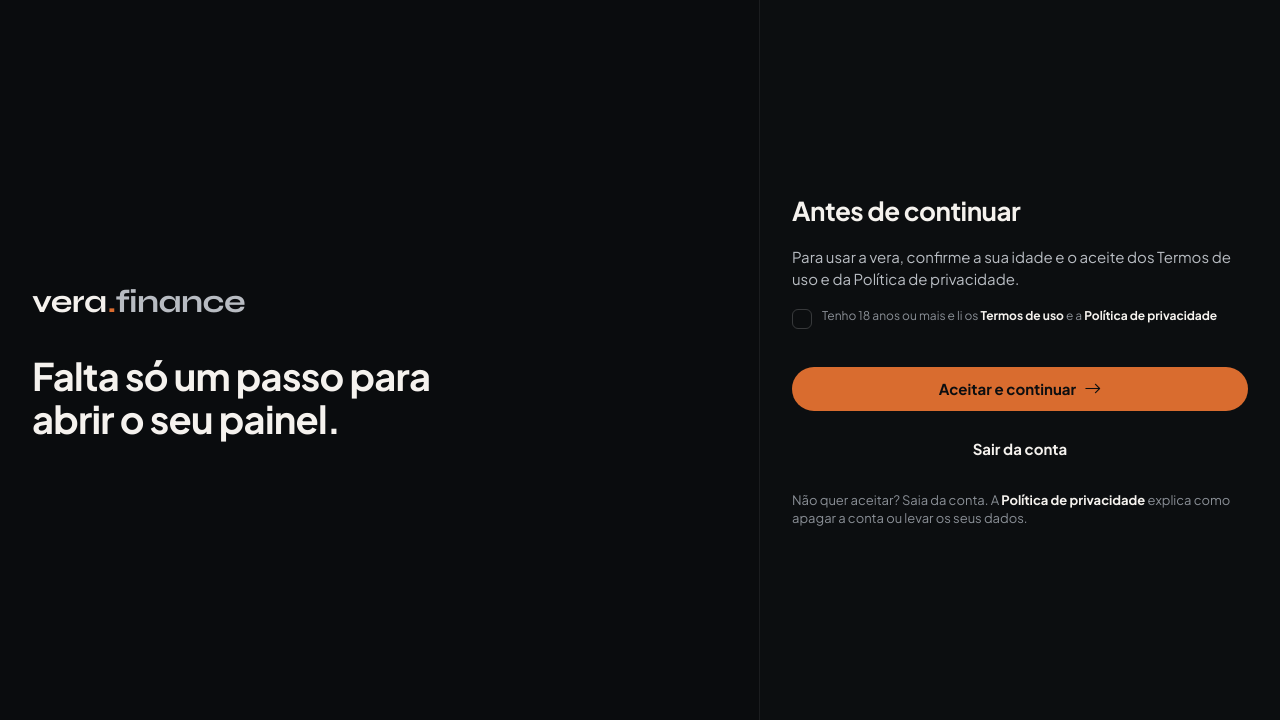
Scenario: AceiteDosTermos › sem marcar a caixa não grava e explica o que falta
Expected: the heading "Antes de continuar" is shown, x1=792 y1=194 x2=1020 y2=227
Click the button "Aceitar e continuar" at (1020, 388), box x1=792 y1=366 x2=1248 y2=410
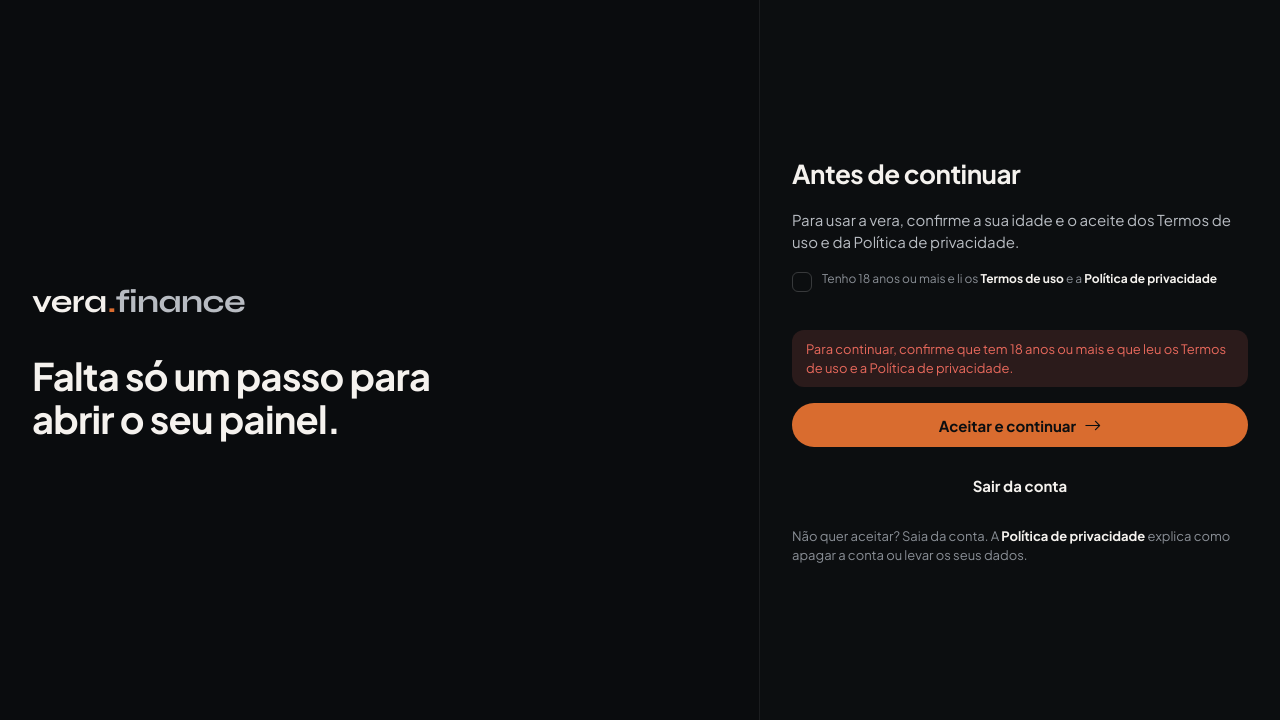
Result: the message shows "confirme que tem 18 anos ou mais" at x1=806 y1=341 x2=1226 y2=376
